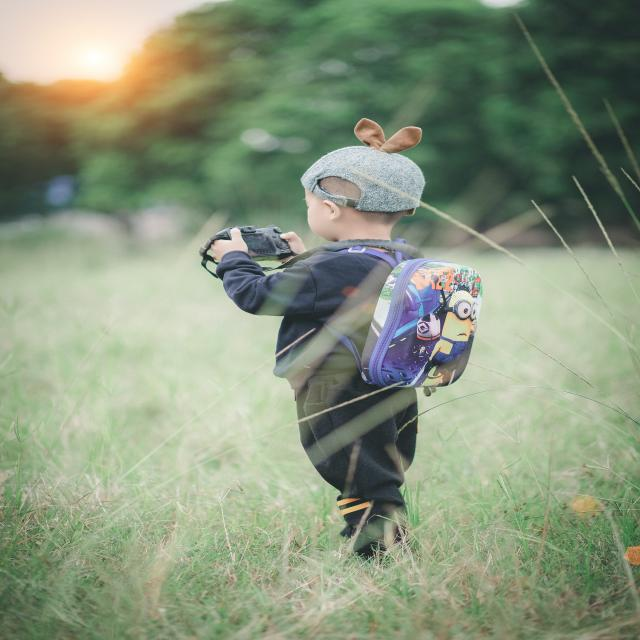backpack: (282, 243, 472, 390)
